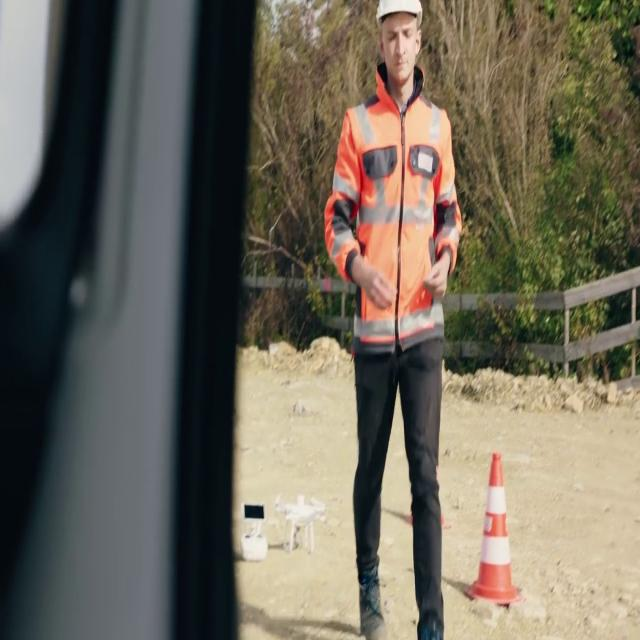drone: (271, 488, 329, 556)
